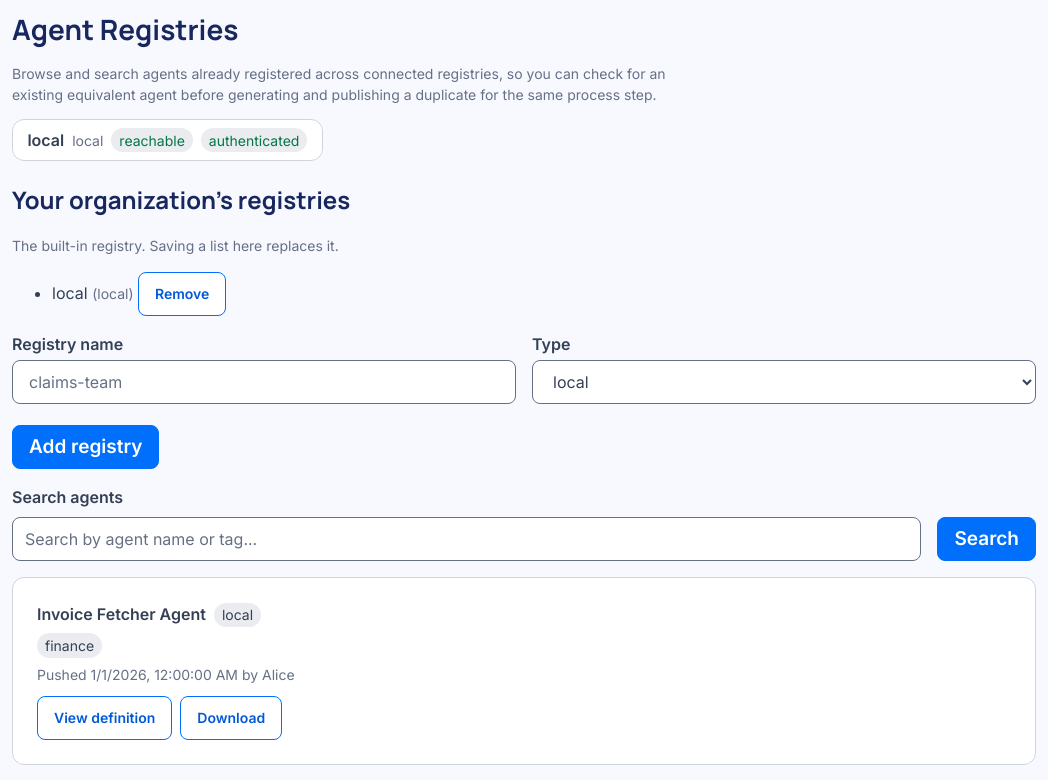
it: RegistriesPage › searches on submit and shows results
This screenshot has width=1048, height=780.
Expected: the text "Invoice Fetcher Agent" is shown, left=37, top=602, right=206, bottom=626
Type "nothing-matches" into the field with placeholder "Search by agent name or tag...".
click(467, 540); type("nothing-matches")  # box left=12, top=518, right=922, bottom=562
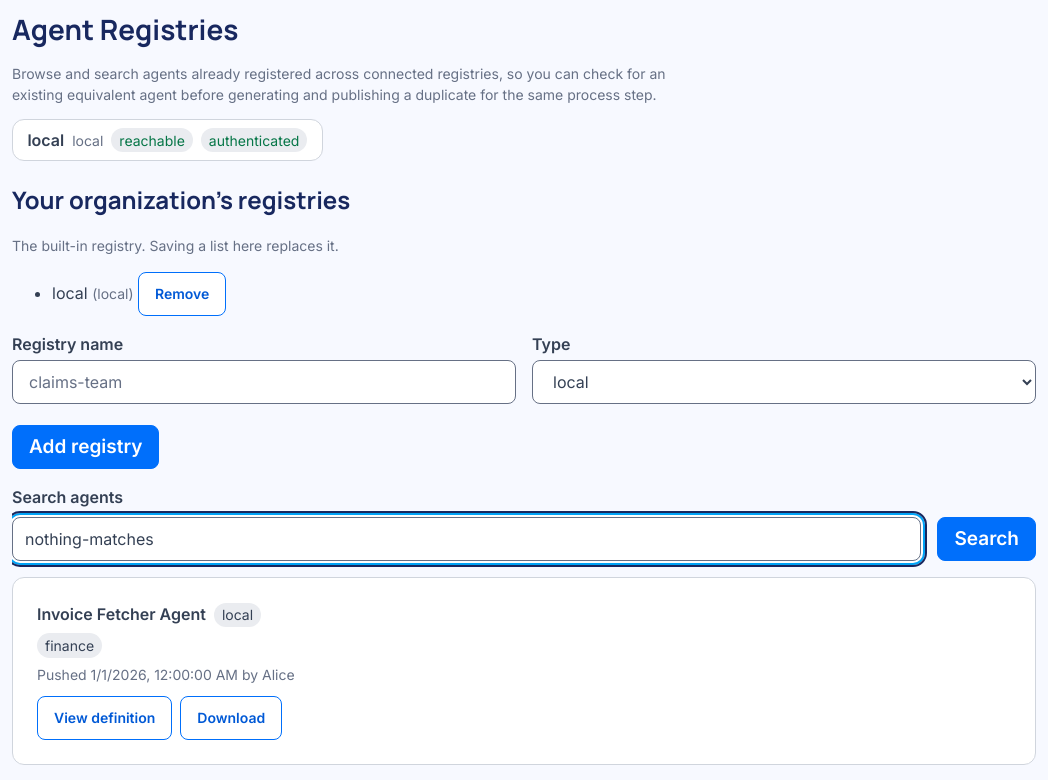
Click the button "Search".
click(987, 539)  # box left=938, top=517, right=1036, bottom=562
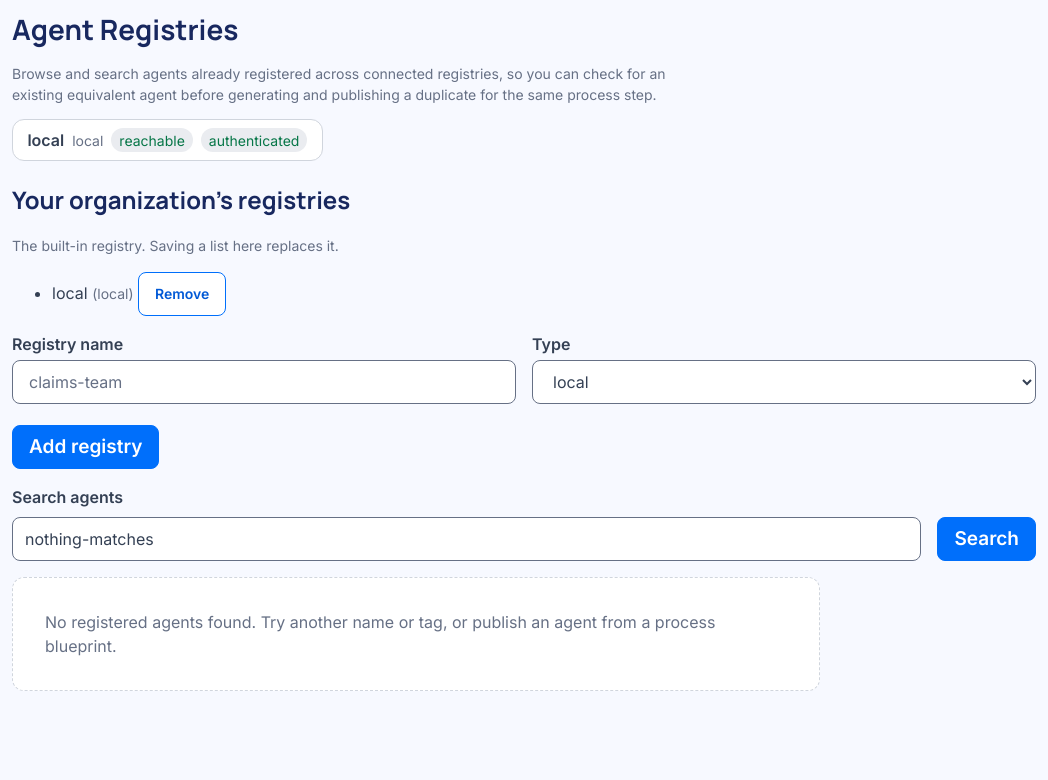
Expected: the text "No registered agents found" is shown, left=45, top=612, right=715, bottom=656
